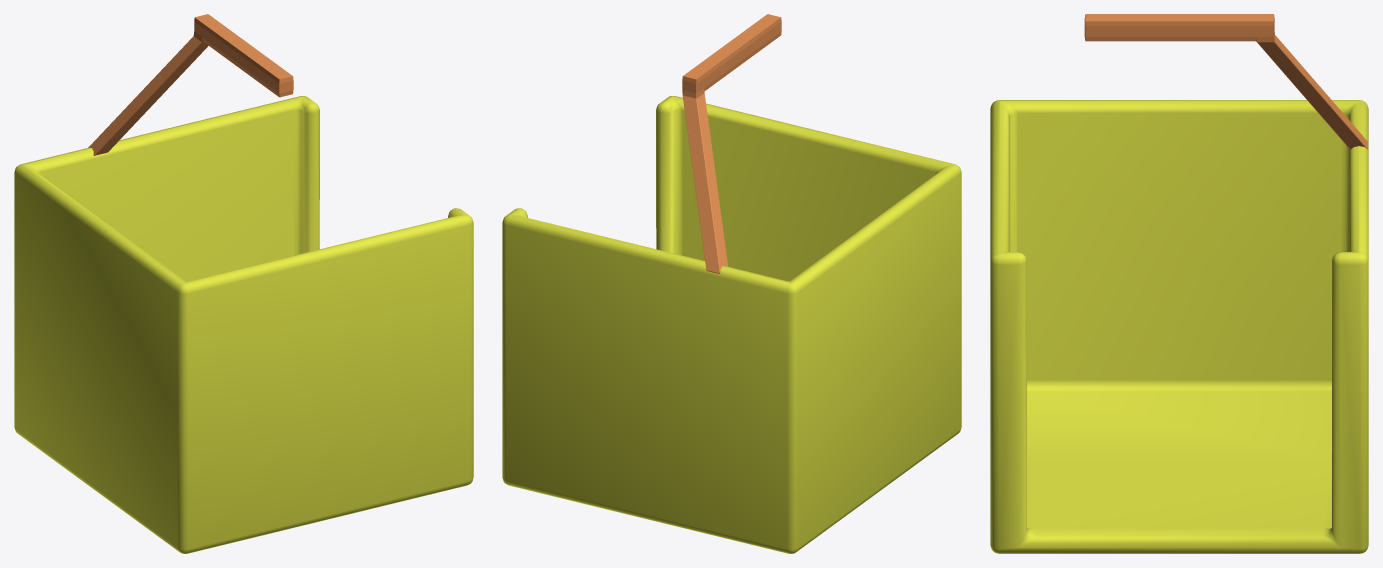
Rendered from basket_2.fbx.
3 renders of one model, left to right at view 1: azimuth 30°, elevation 25°; view 2: azimuth 150°, elevation 25°; view 3: azimuth 270°, elevation 25°, orthographic. The views are drawn at different scales.
Parts seen in each view (by area): view 1: cube.001, cube; view 2: cube.001, cube; view 3: cube.001, cube.
Part boxes in pixels (x1,y1,x2,y2): cube.001: (14,96,473,553); cube: (88,14,293,155); cube.001: (502,96,961,553); cube: (682,14,781,273); cube.001: (990,100,1368,553); cube: (1084,14,1367,149).
Bounding box in the file's own units: 400 × 536 × 400.
